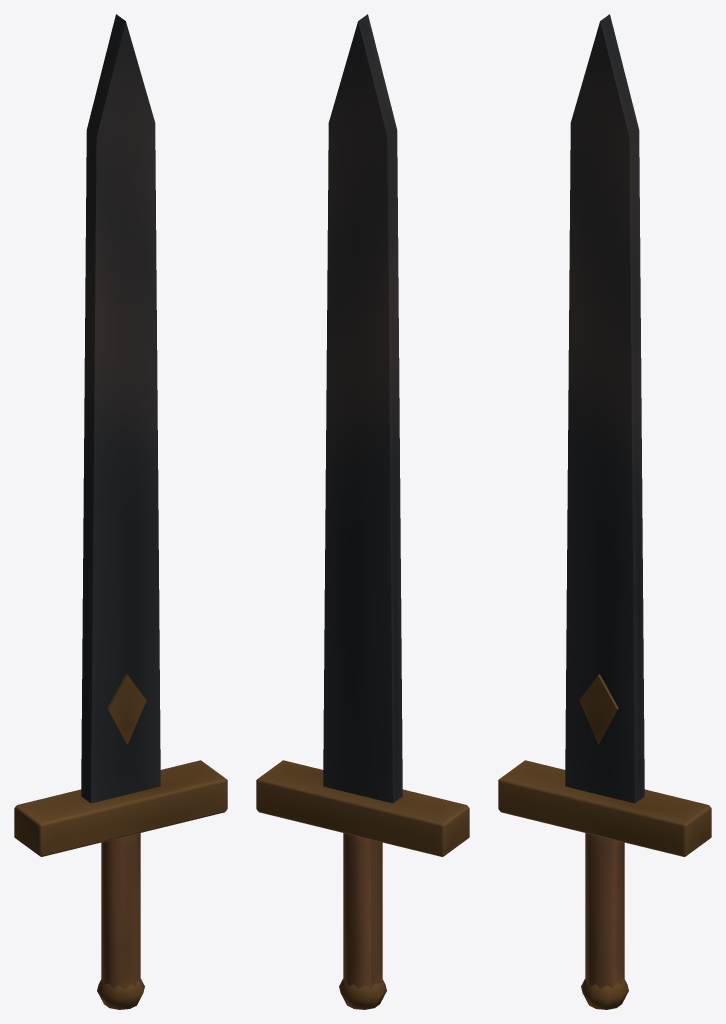
File: Hold_Sword.fbx
The picture shows the model from 3 angles, left to right: view 1: azimuth 30°, elevation 25°; view 2: azimuth 150°, elevation 25°; view 3: azimuth 330°, elevation 25°; orthographic projection.
Parts seen in each view (by area): view 1: Hold_Sword; view 2: Hold_Sword; view 3: Hold_Sword.
Boxes of the visible parts, x1,y1,x2,y2 form: Hold_Sword: (14,14,227,1009); Hold_Sword: (256,14,469,1009); Hold_Sword: (498,14,711,1009).
Bounding box in the file's own units: 0.2 × 1 × 0.05.
2 materials, 2 textured.
